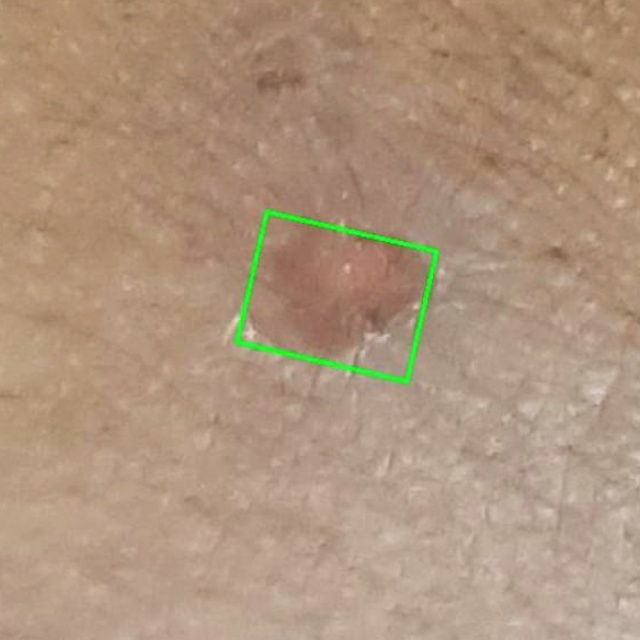Atopic Dermatitis: (237, 211, 437, 380)
